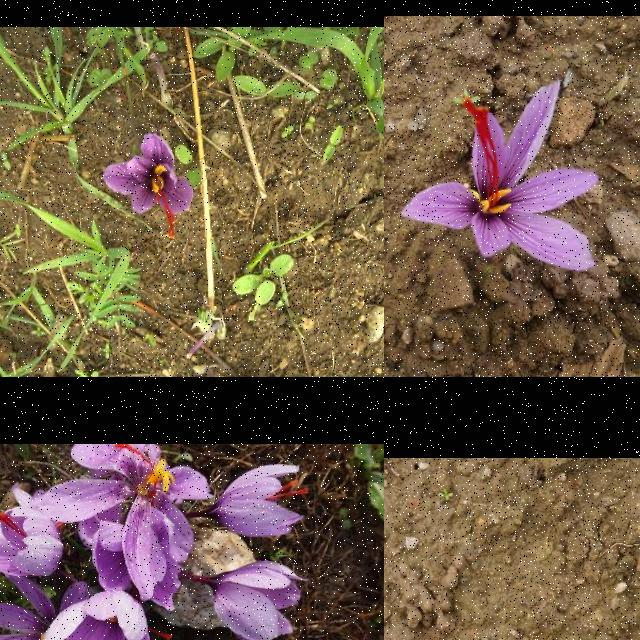flower: (400, 81, 598, 273), (38, 444, 212, 600), (102, 132, 195, 240), (210, 560, 307, 640), (212, 464, 310, 538), (41, 590, 184, 640), (0, 506, 64, 577)
overlap: (0, 444, 212, 640)
